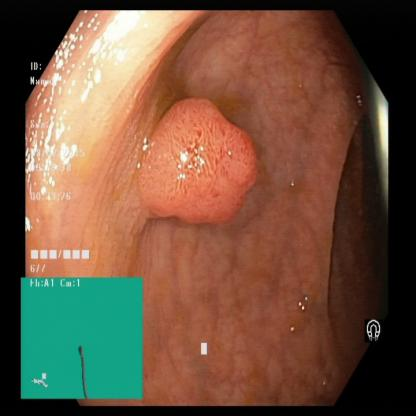Labels: (24, 60, 108, 276), (23, 278, 146, 401), (369, 306, 384, 349)
Polyps: (149, 109, 264, 220)
